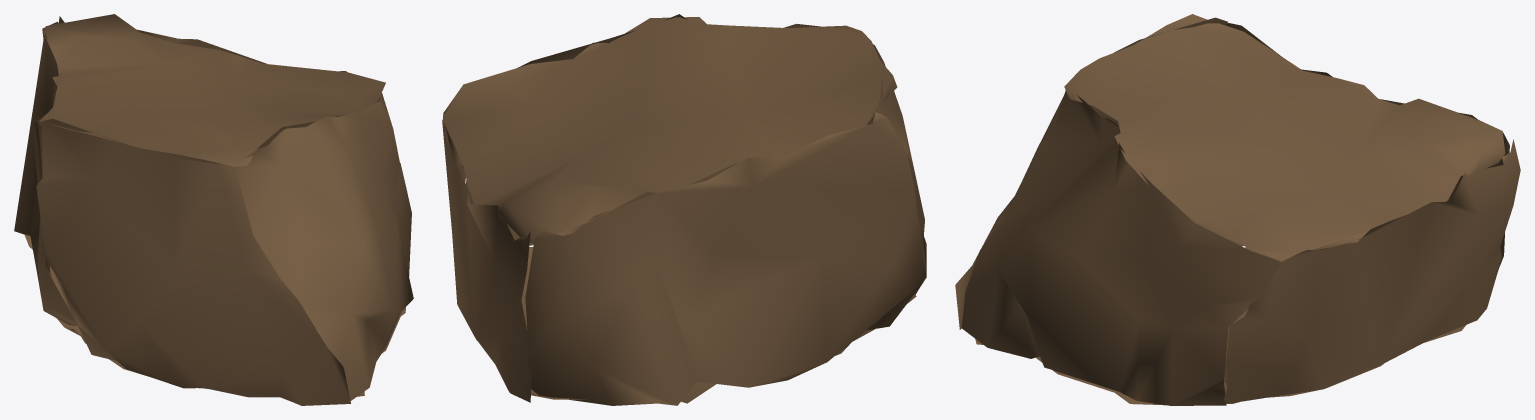
File: rock-desert-lod1.glb
3 renders of one model, left to right at view 1: azimuth 30°, elevation 25°; view 2: azimuth 150°, elevation 25°; view 3: azimuth 270°, elevation 25°, orthographic. The views are drawn at different scales.
Visible parts, largest first — view 1: rock-desert.001; view 2: rock-desert.001; view 3: rock-desert.001.
Part boxes in pixels (x1,y1,x2,y2): rock-desert.001: [14, 14, 413, 405]; rock-desert.001: [442, 14, 926, 405]; rock-desert.001: [955, 14, 1520, 405].
Bounding box in the file's own units: 2.98 × 1.79 × 3.8.
